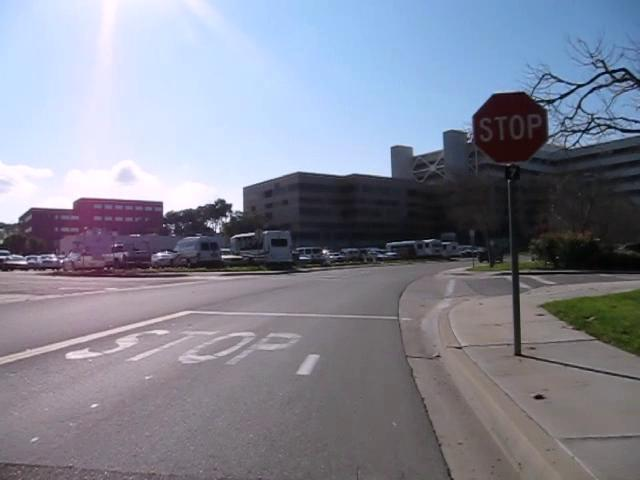stop: (472, 90, 549, 164)
